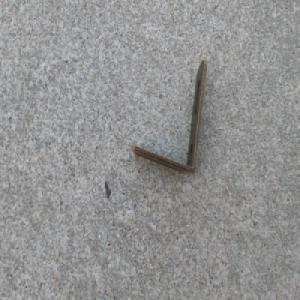MetalPart: (132, 59, 208, 174)
